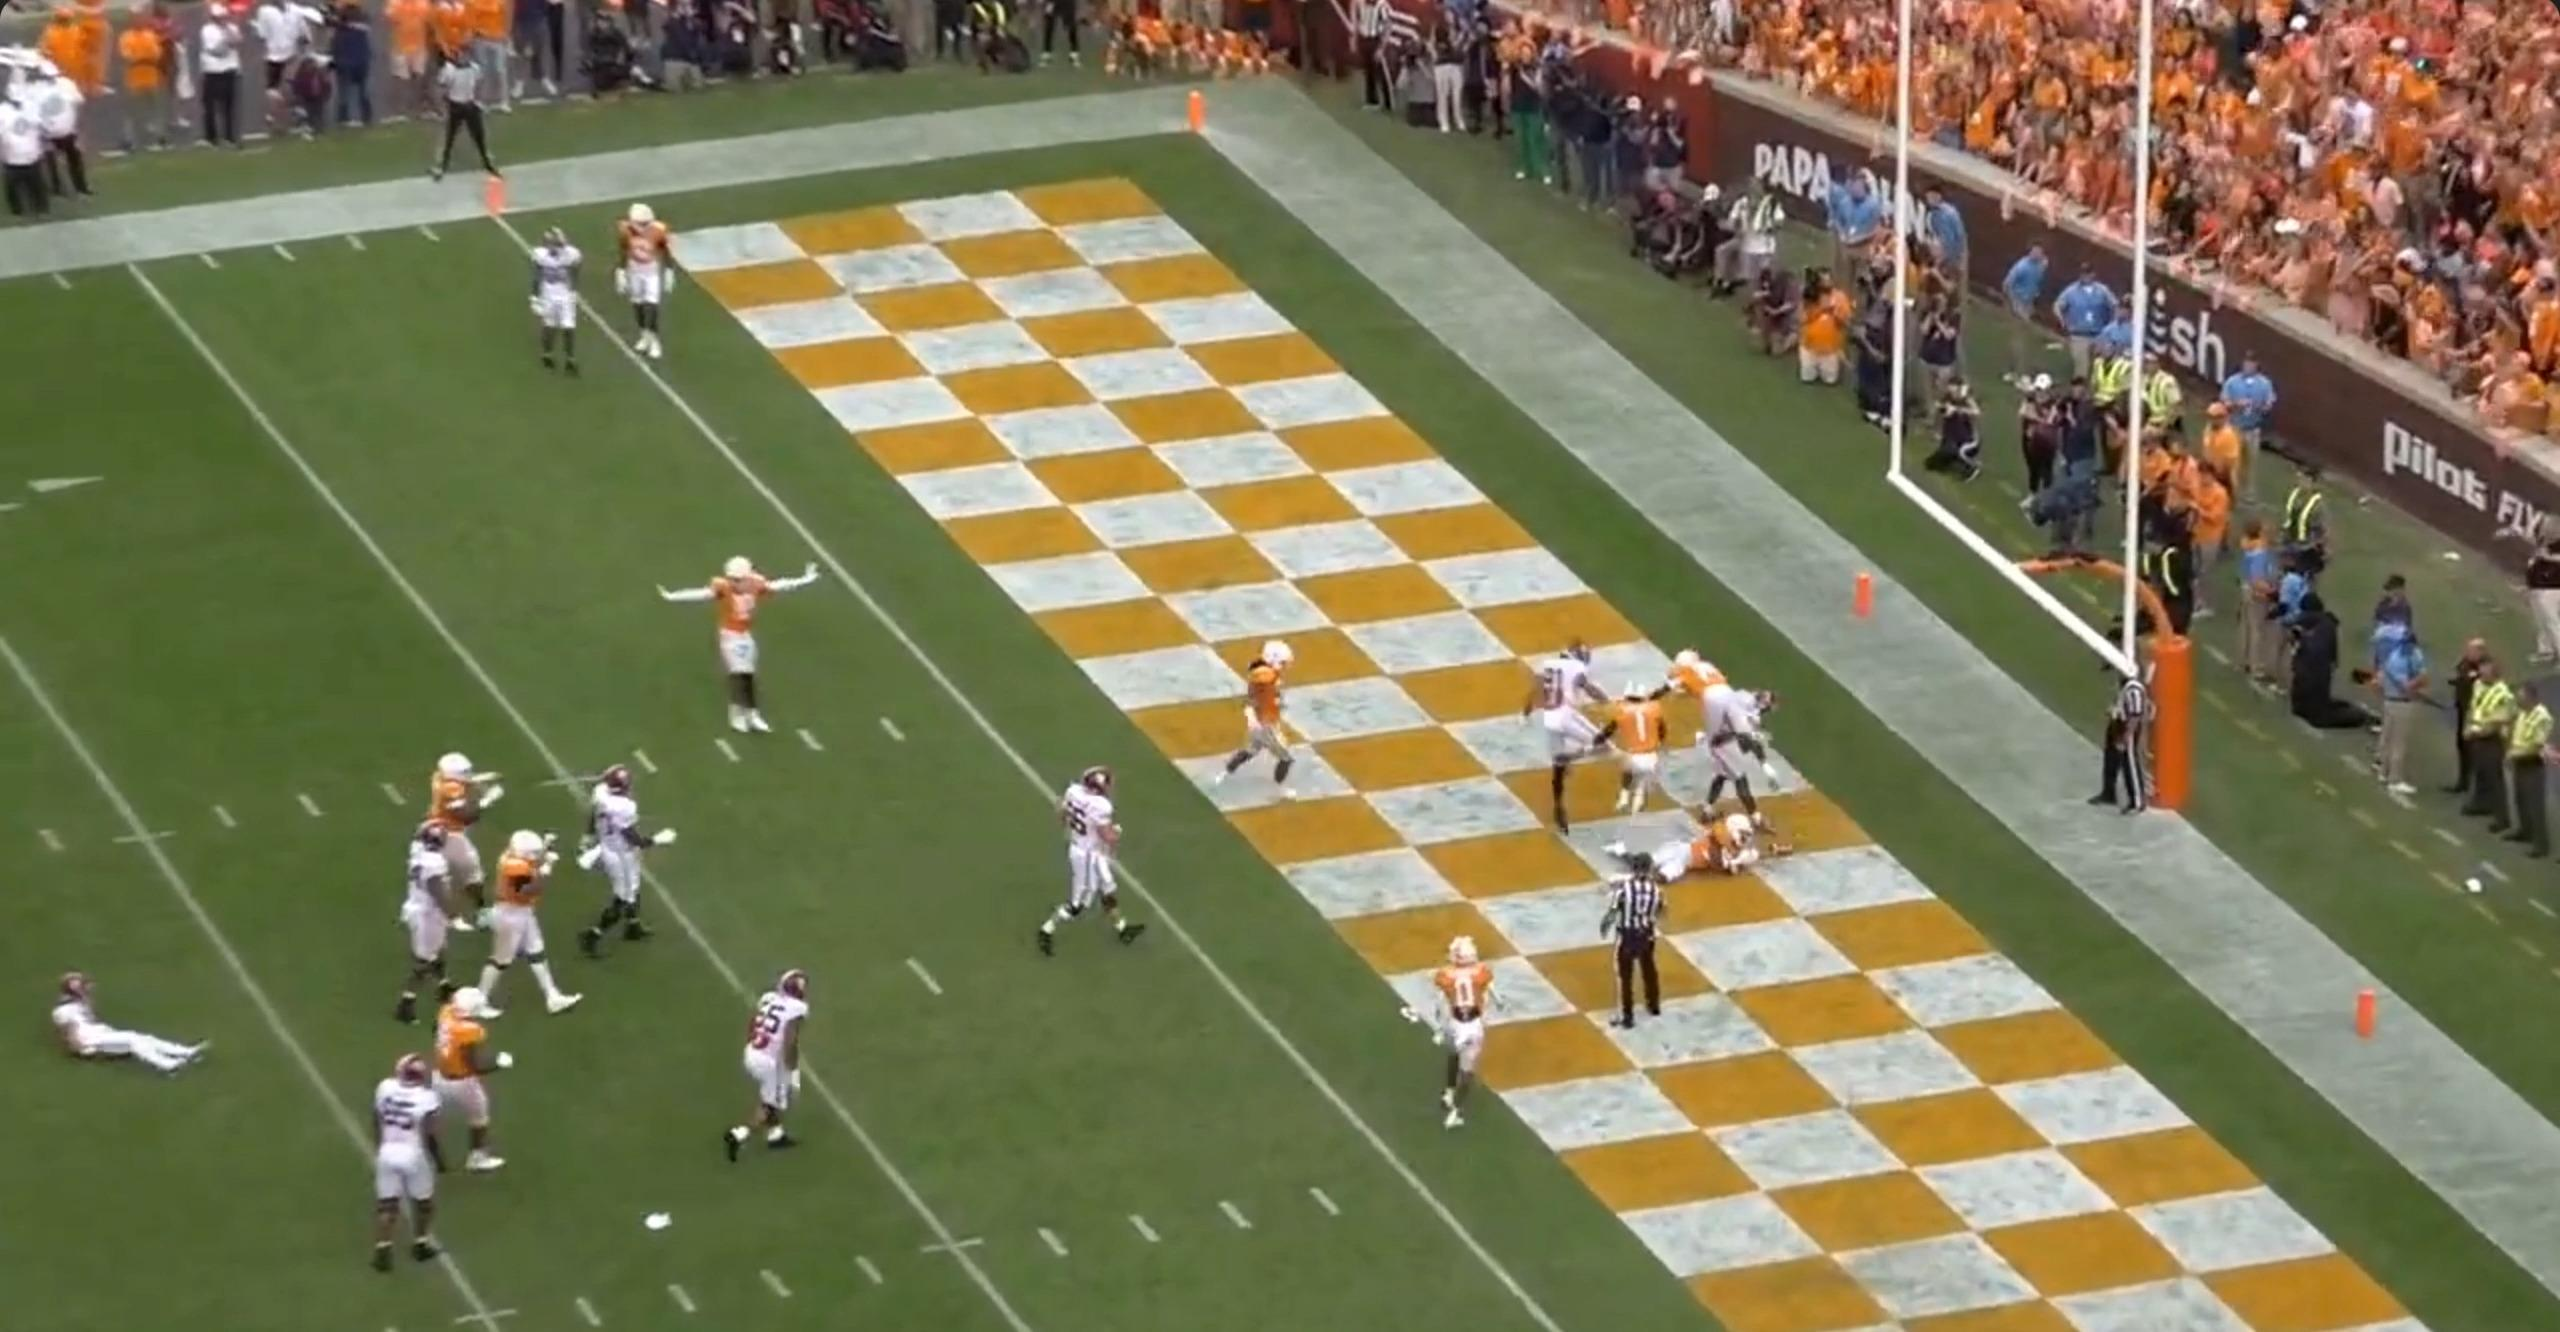player: (460, 823, 578, 1024), (571, 765, 683, 961), (365, 1054, 461, 1276), (1046, 757, 1147, 955), (709, 965, 806, 1166), (1652, 648, 1792, 784), (48, 966, 217, 1078), (384, 816, 475, 1022), (1521, 645, 1616, 837), (425, 979, 517, 1177), (1417, 925, 1498, 1134), (696, 549, 779, 749), (1592, 806, 1773, 888), (1231, 631, 1316, 796), (416, 746, 510, 883), (1699, 680, 1782, 831), (609, 198, 683, 365), (1590, 678, 1676, 818), (518, 224, 589, 383)
ref: (1588, 839, 1673, 1039), (2075, 656, 2159, 817), (428, 38, 508, 186)
